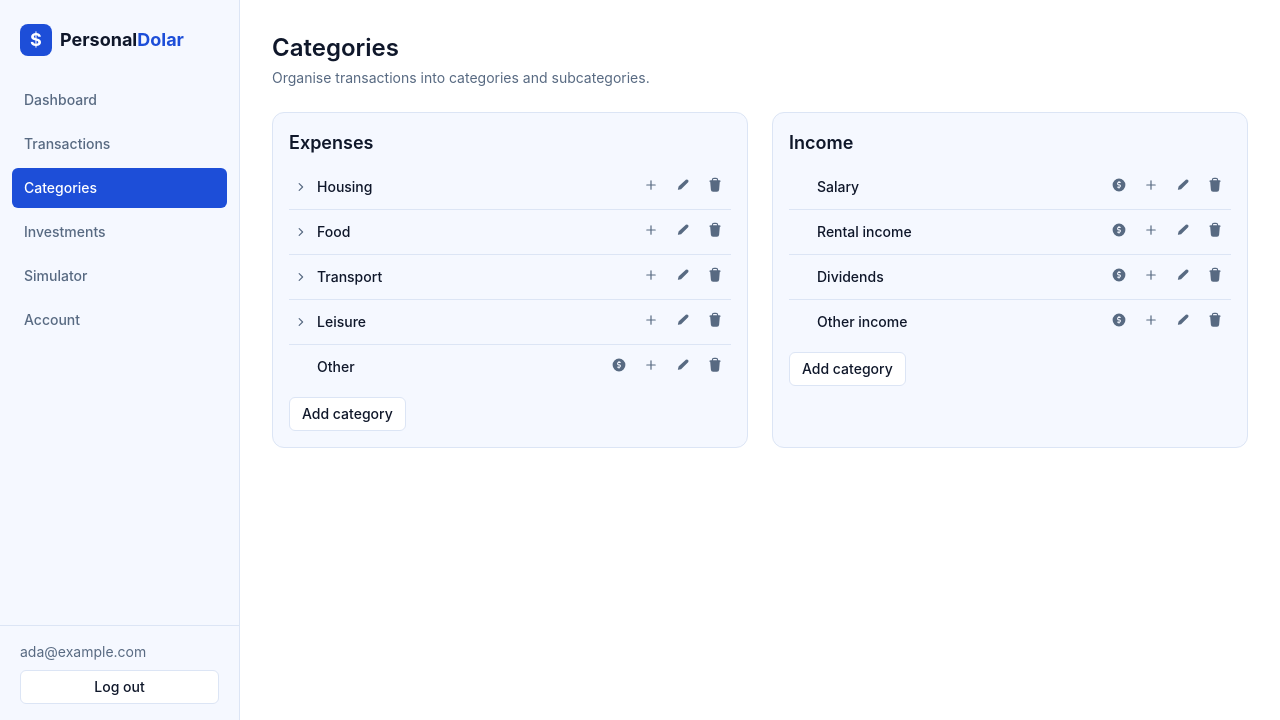
Test: CategoriesPage — toasts › shows no success toast when a save fails
Expected: the heading "Categories" is shown, x1=272 y1=33 x2=399 y2=62
Expected: the heading "Expenses" is shown, x1=289 y1=132 x2=374 y2=153
Click the button "Add category" below "Expenses" at point(347, 414), box x1=289 y1=397 x2=406 y2=431
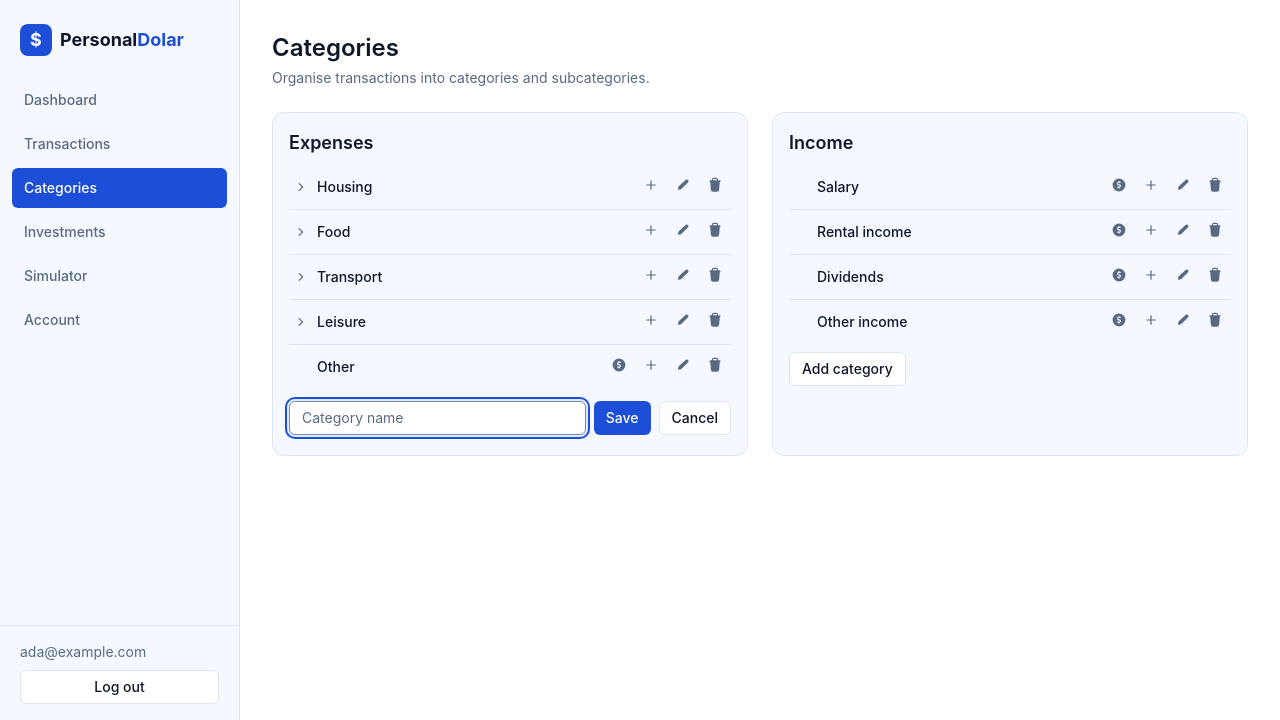
Type "Food" into the field labelled "Category name" at point(437, 418), box x1=289 y1=401 x2=586 y2=435
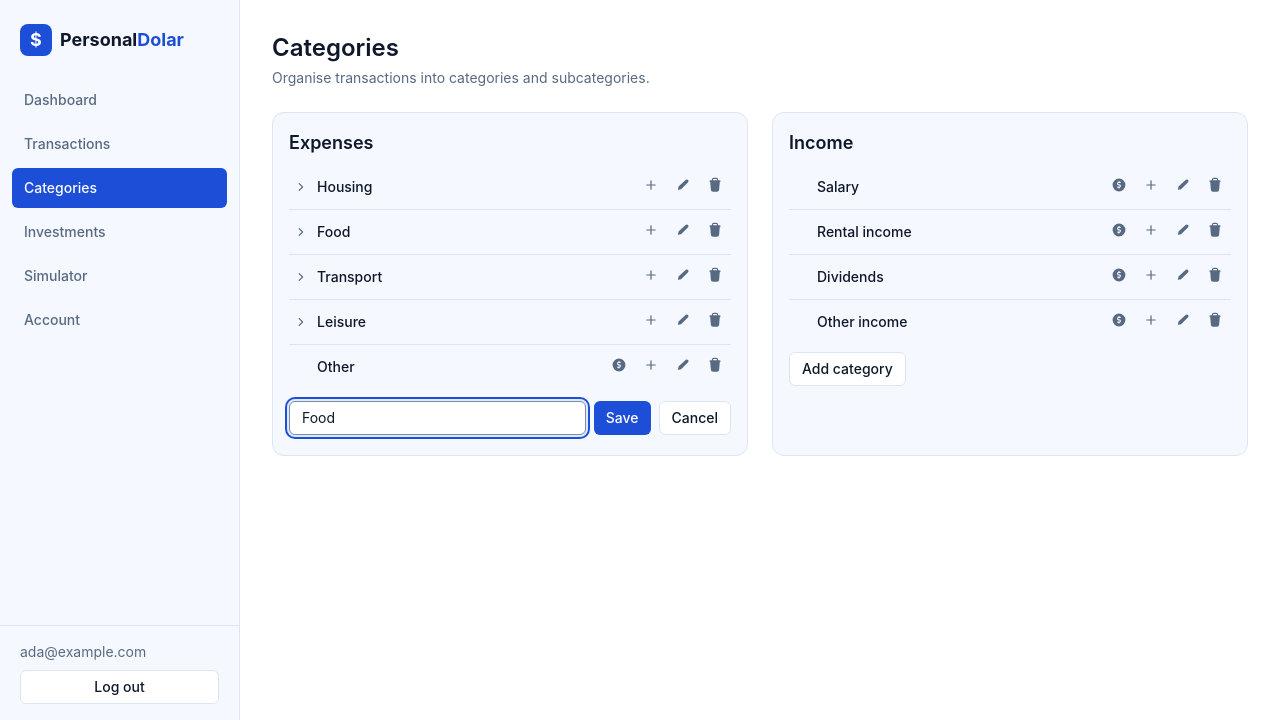
Submit the form, box x1=289 y1=397 x2=731 y2=439
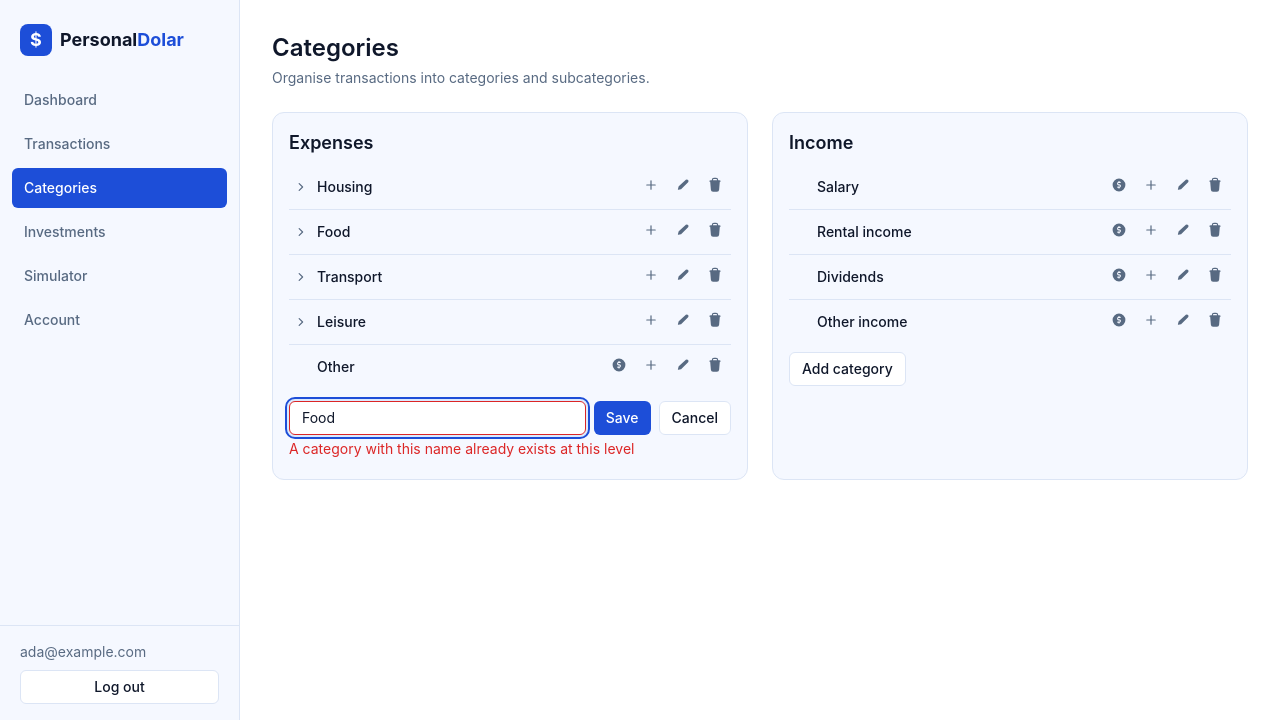
Now the text "A category with this name already exists at this level" is shown, box x1=289 y1=440 x2=634 y2=457
